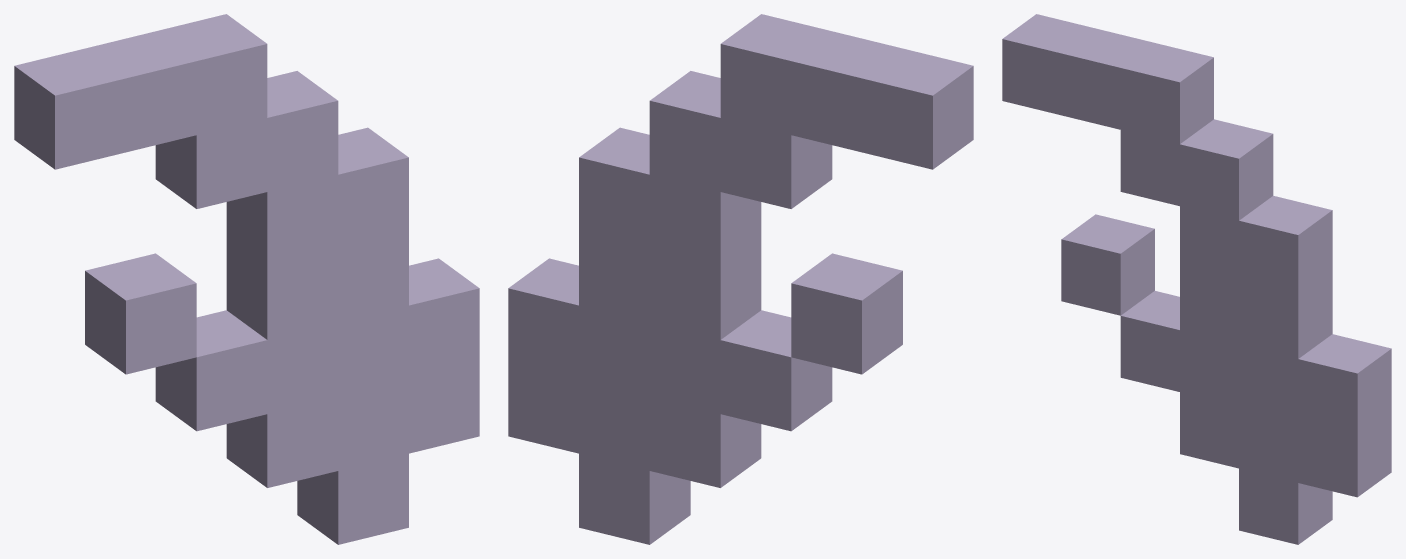
File: Gauntlet-Grey.vox.obj
3 renders of one model, left to right at view 1: azimuth 30°, elevation 25°; view 2: azimuth 150°, elevation 25°; view 3: azimuth 330°, elevation 25°, orthographic. The views are drawn at different scales.
Bounding box in the file's own units: 0.6 × 0.7 × 0.1.
1 material, 1 textured.
